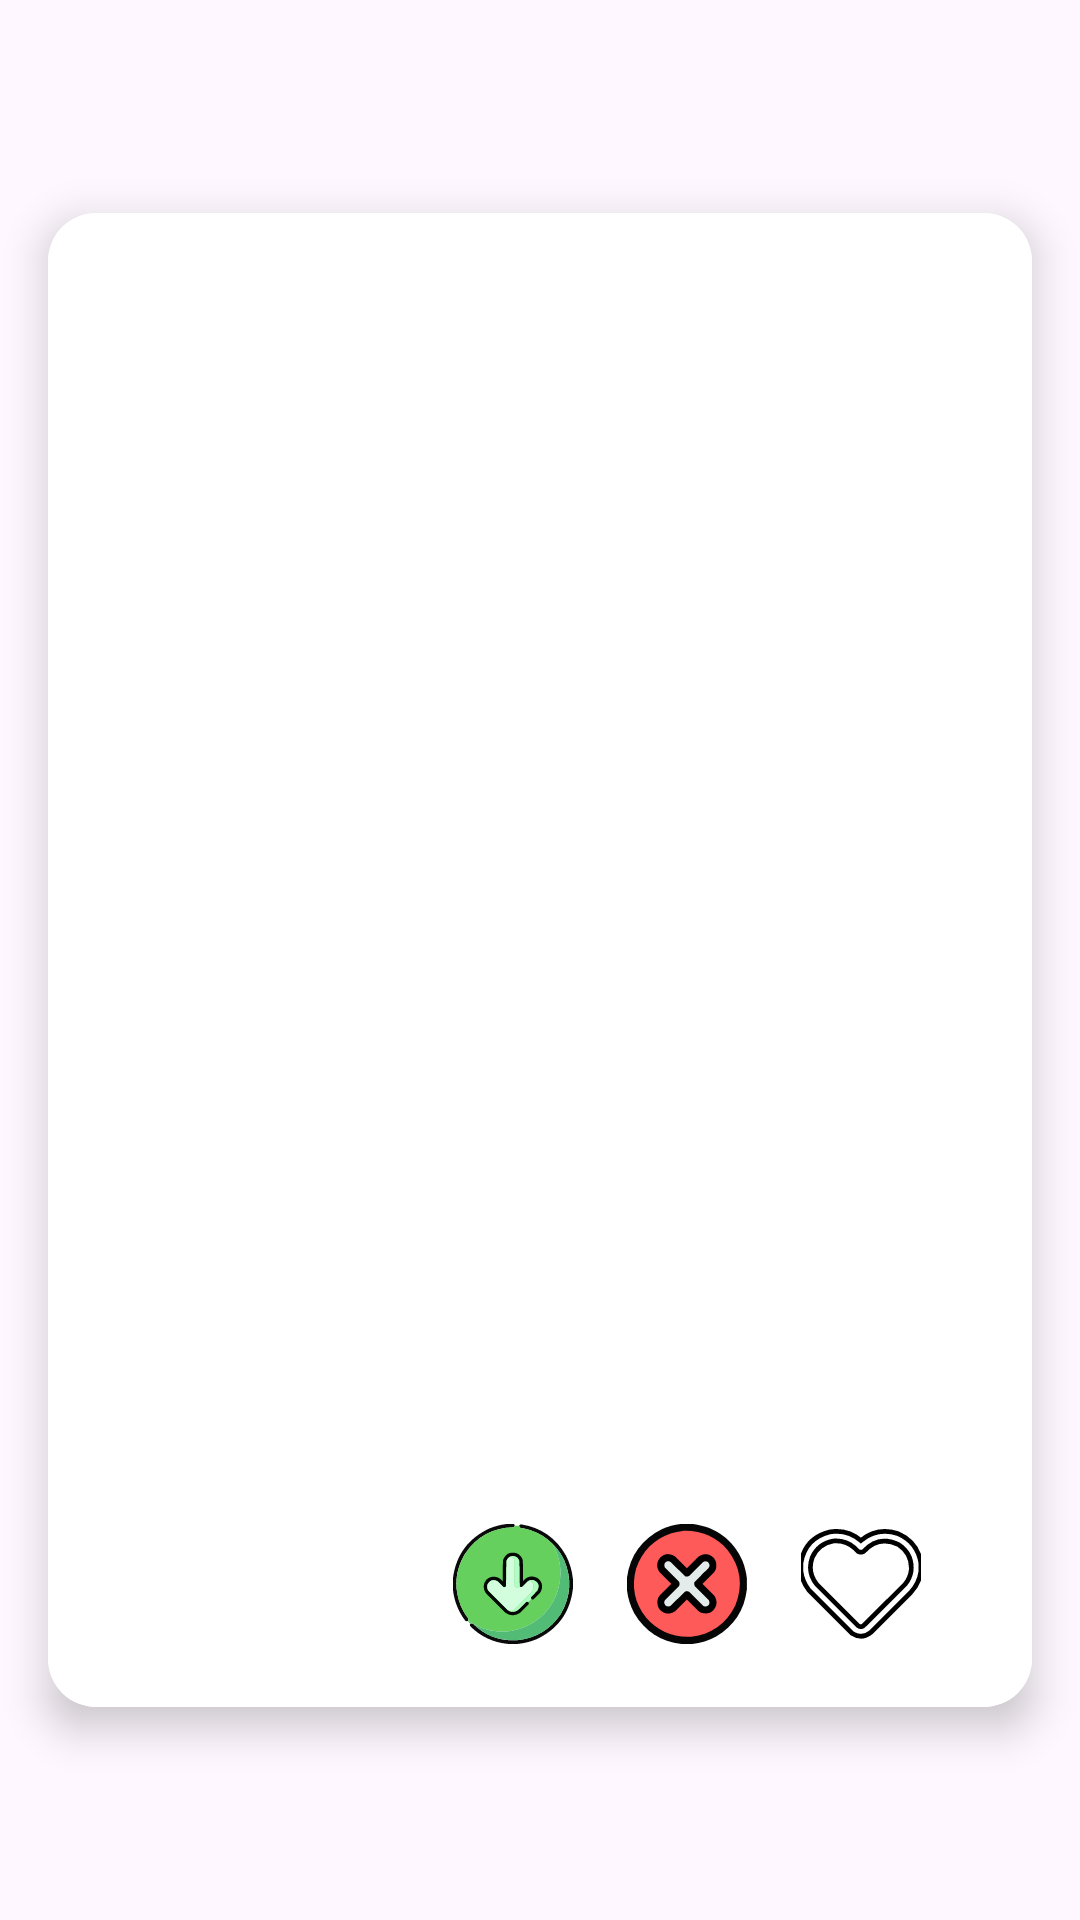

Named icons in this screenshot (1080 × 1920) and their centers, (x=x, y=y):
Cancel: (x=687, y=1584)
download: (x=513, y=1584)
favorite: (x=861, y=1584)
